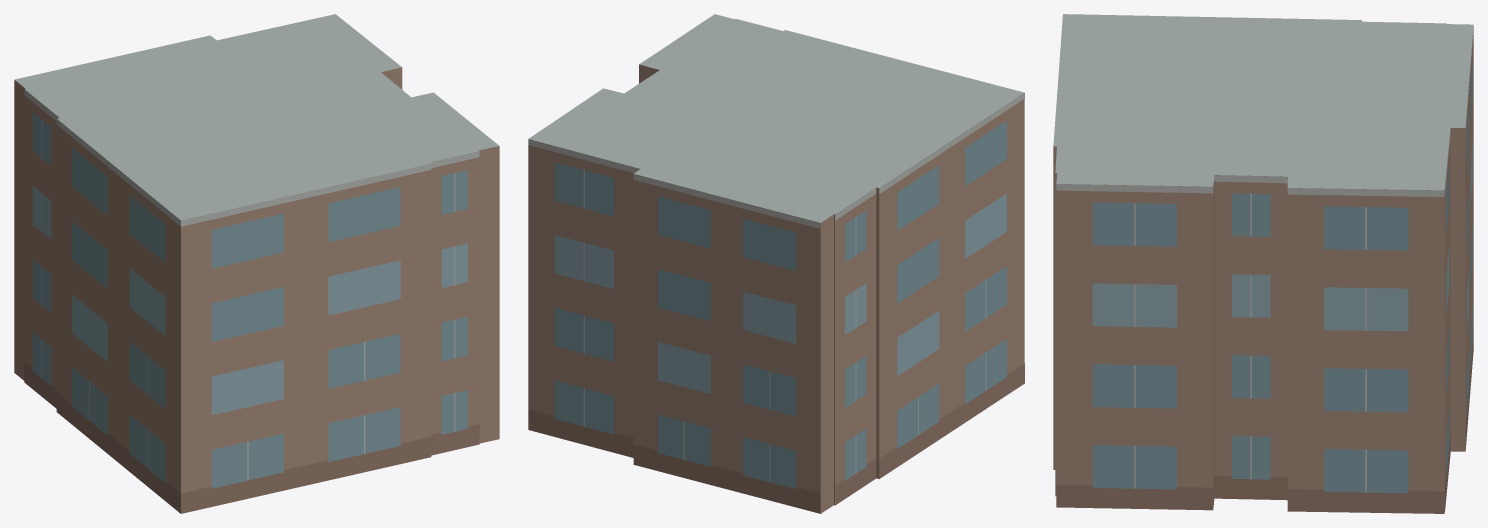
File: survey-upis-32654386.glb
The picture shows the model from 3 angles, left to right: view 1: azimuth 30°, elevation 25°; view 2: azimuth 150°, elevation 25°; view 3: azimuth 270°, elevation 25°; orthographic projection. The views are drawn at different scales.
Visible parts, largest first — view 1: survey-upis-32654386.tmp; view 2: survey-upis-32654386.tmp; view 3: survey-upis-32654386.tmp.
Part boxes in pixels (x1,y1,x2,y2): survey-upis-32654386.tmp: [14, 14, 499, 513]; survey-upis-32654386.tmp: [528, 14, 1024, 513]; survey-upis-32654386.tmp: [1053, 14, 1473, 513].
Bounding box in the file's own units: 13.74 × 11.75 × 13.85.
